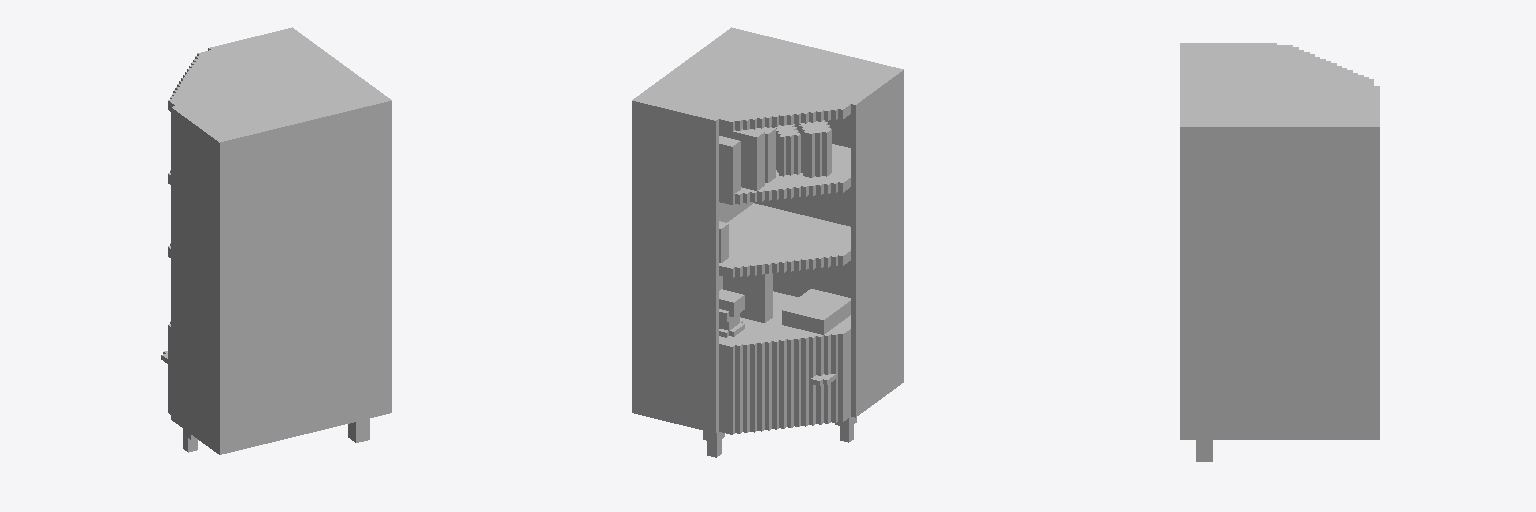
Rendered from largebookshelf (2).obj.
The picture shows the model from 3 angles: view 1: azimuth 30°, elevation 25°; view 2: azimuth 150°, elevation 25°; view 3: azimuth 270°, elevation 25°; orthographic projection.
Parts seen in each view (by area): view 1: object 1; view 2: object 1; view 3: object 1.
Part boxes in pixels (x1,y1,x2,y2): object 1: (161, 27, 391, 454); object 1: (632, 27, 903, 457); object 1: (1180, 43, 1379, 461).
Bounding box in the file's own units: 3.7 × 7 × 3.7.